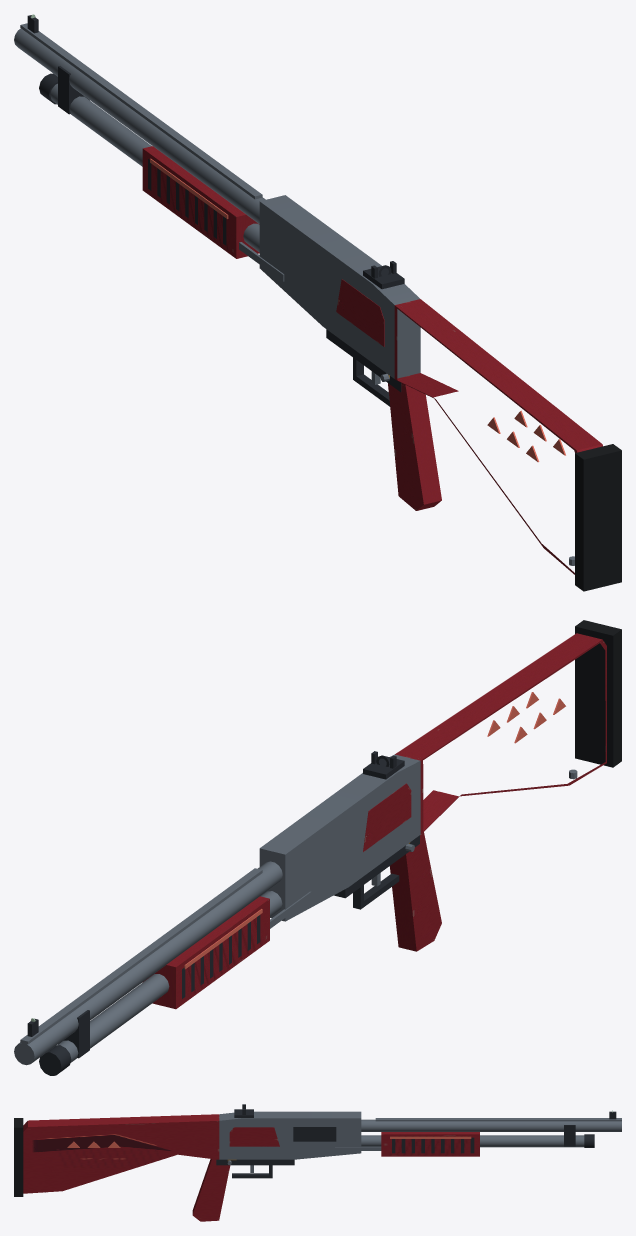
3 renders of one model, top to bottom at view 1: azimuth 30°, elevation 25°; view 2: azimuth 150°, elevation 25°; view 3: azimuth 270°, elevation 25°, orthographic. The views are drawn at different scales.
Parts seen in each view (by area): view 1: shotgun, pump; view 2: shotgun, pump; view 3: shotgun, pump.
Part boxes in pixels (x1,y1,x2,y2): shotgun: (14,14,621,591); pump: (142,146,284,281); shotgun: (14,620,621,1075); pump: (142,891,311,1009); shotgun: (14,1104,621,1221); pump: (335,1132,479,1156).
Size of the model in its own units: 0.04 by 0.214 by 1.05.
8 materials, 1 textured.
